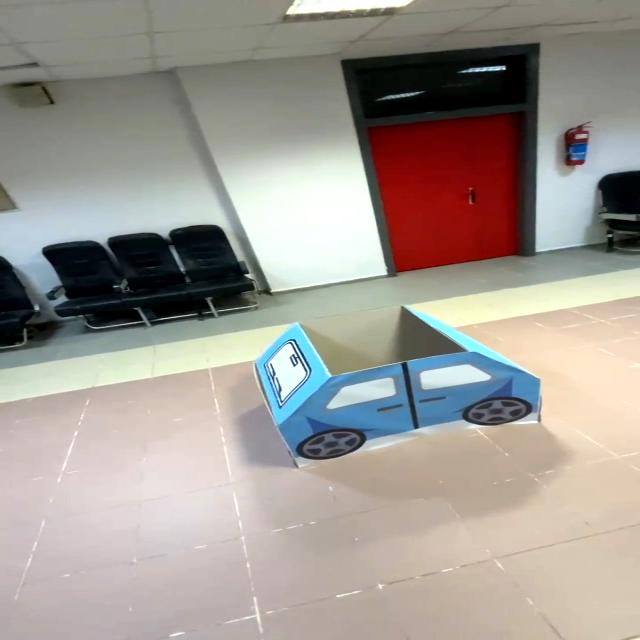blue_car: (231, 298, 569, 473)
